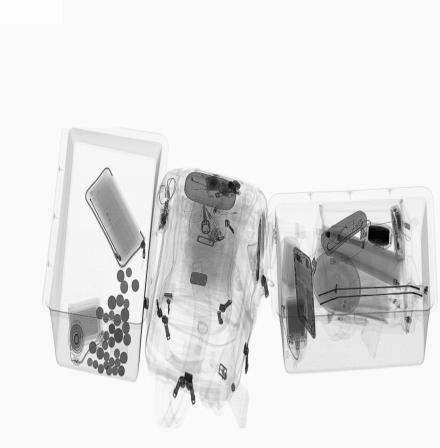Powerbank: (286, 292, 308, 349)
